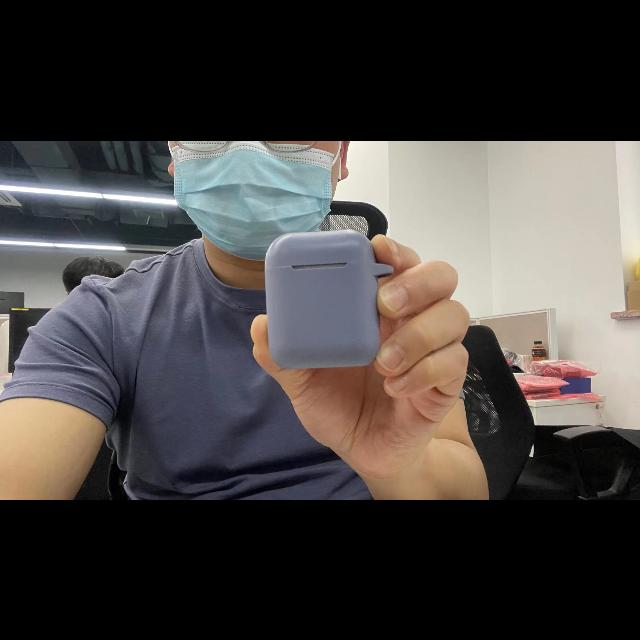airpods: (264, 229, 397, 369)
